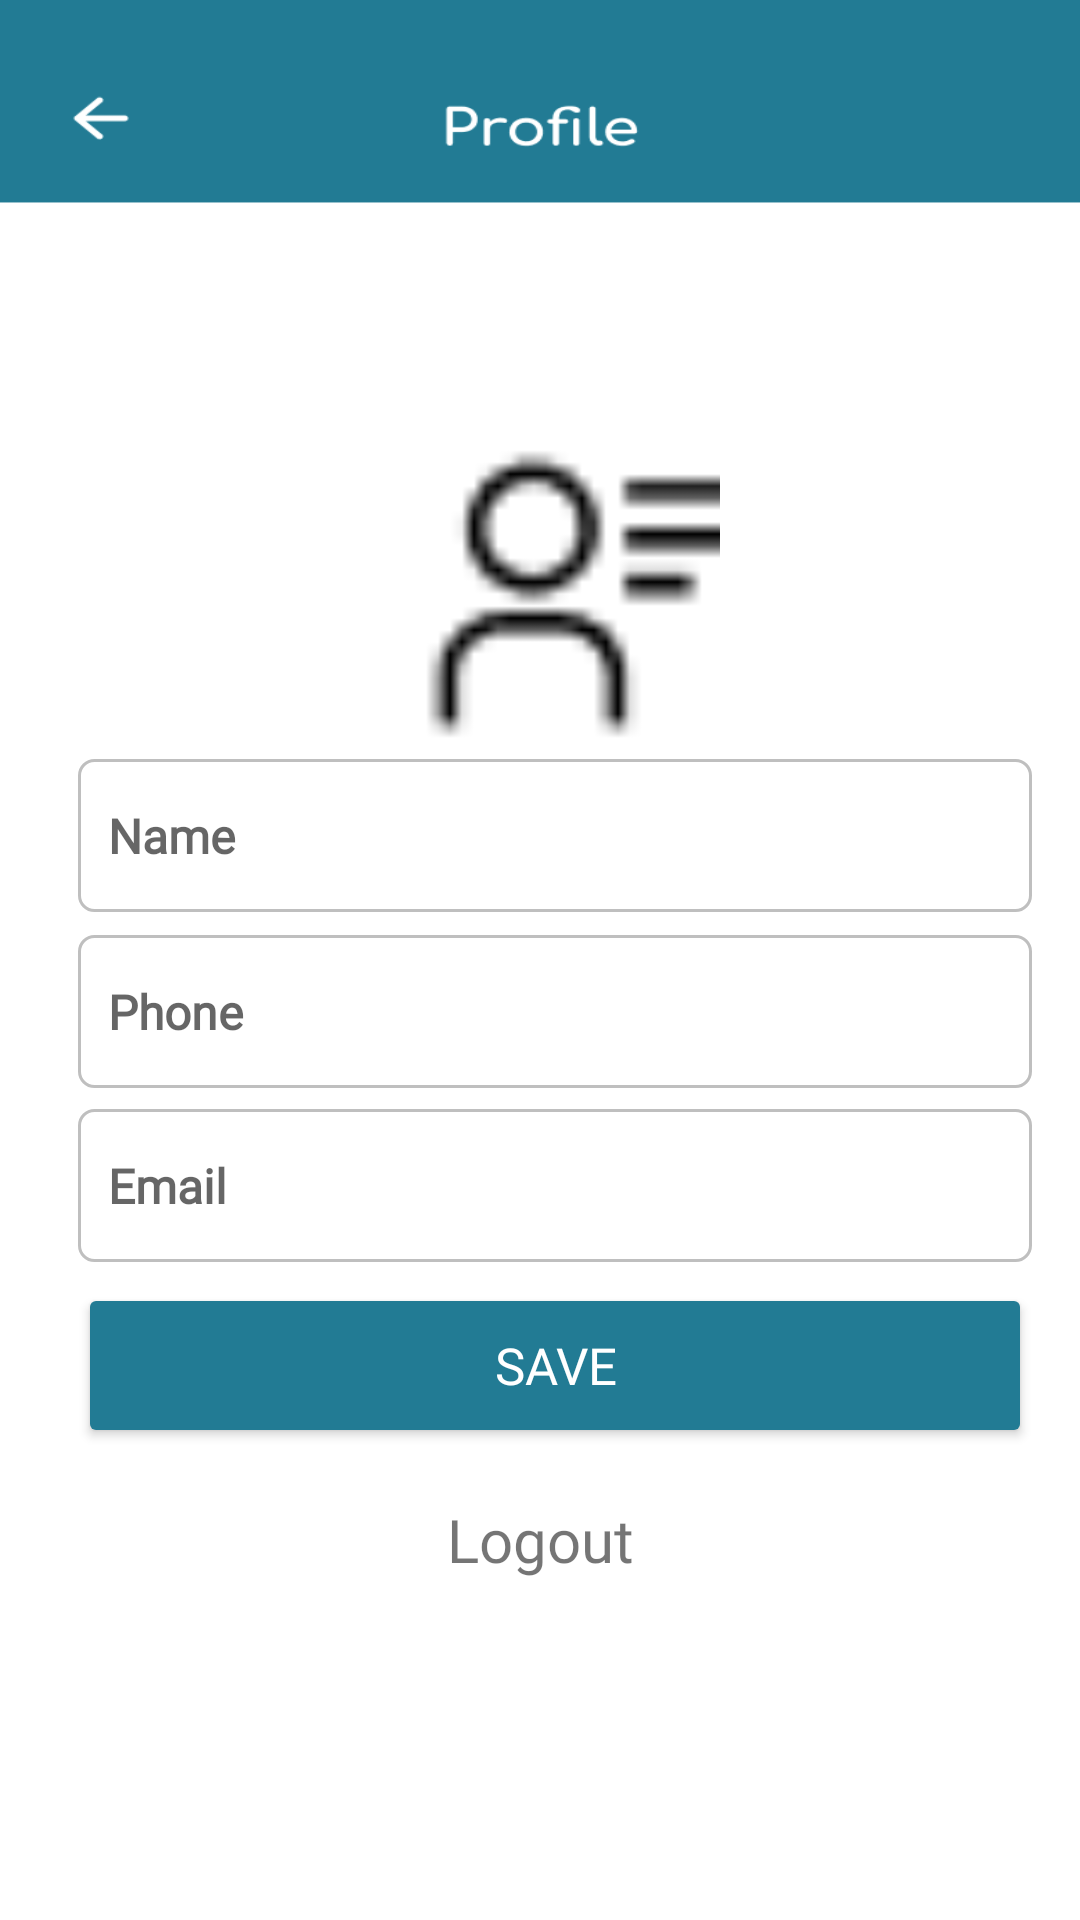

Locate icon controls on the screen. Image size 1080x1920, boxes as [x1=x1, y1=y1, x2=x2, y2=y2].
profile: [x1=429, y1=453, x2=720, y2=735]
